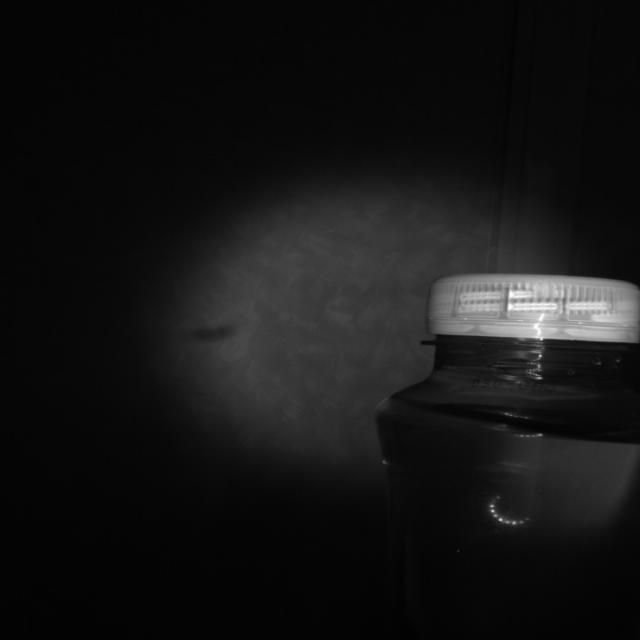Good: (423, 272, 640, 345)
